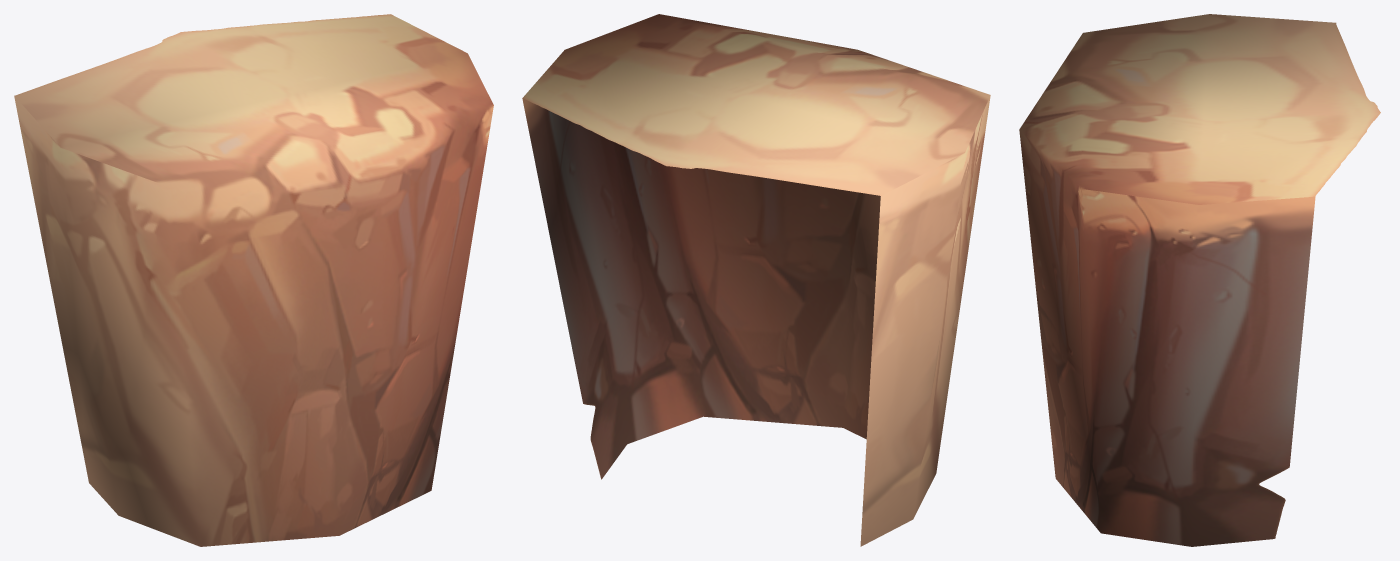
The model's file is Chapter6Scene1Model2.FBX.
3 renders of one model, left to right at view 1: azimuth 30°, elevation 25°; view 2: azimuth 150°, elevation 25°; view 3: azimuth 270°, elevation 25°, orthographic. The views are drawn at different scales.
Parts seen in each view (by area): view 1: Chapter6Scene1Model2; view 2: Chapter6Scene1Model2; view 3: Chapter6Scene1Model2.
Boxes of the visible parts, x1,y1,x2,y2 form: Chapter6Scene1Model2: (14,14,493,546); Chapter6Scene1Model2: (522,14,990,546); Chapter6Scene1Model2: (1019,14,1380,546).
Bounding box in the file's own units: 82.34 × 66.7 × 74.32.
